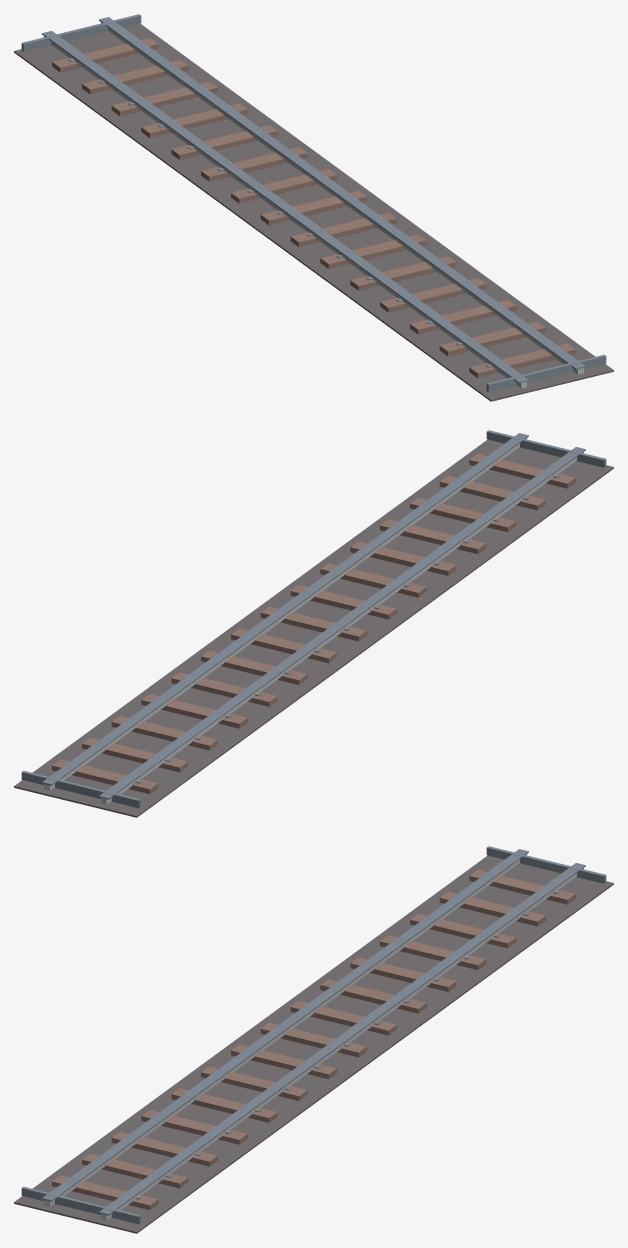
Rendered from riel_central.glb.
The picture shows the model from 3 angles, top to bottom: view 1: azimuth 30°, elevation 25°; view 2: azimuth 150°, elevation 25°; view 3: azimuth 330°, elevation 25°; orthographic projection.
Visible parts, largest first — view 1: riel_central; view 2: riel_central; view 3: riel_central.
Boxes of the visible parts, <box> form: riel_central: <box>14,14,613,401</box>; riel_central: <box>14,430,613,817</box>; riel_central: <box>14,846,613,1233</box>.
Size of the model in its own units: 2.38 by 0.235 by 16.
